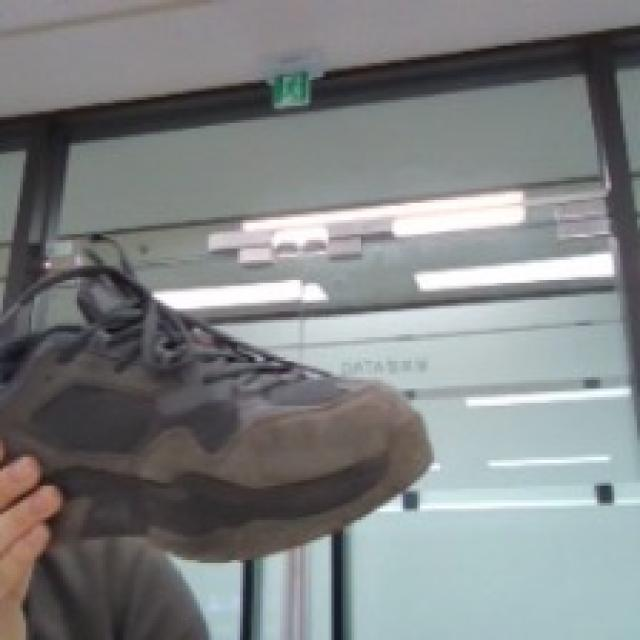shoe: (0, 198, 462, 640)
